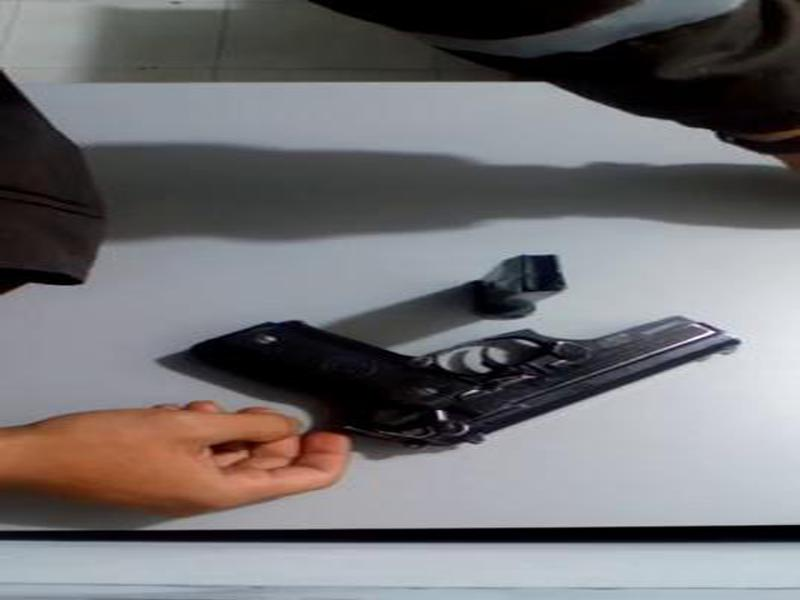Pistola: (163, 262, 752, 437)
